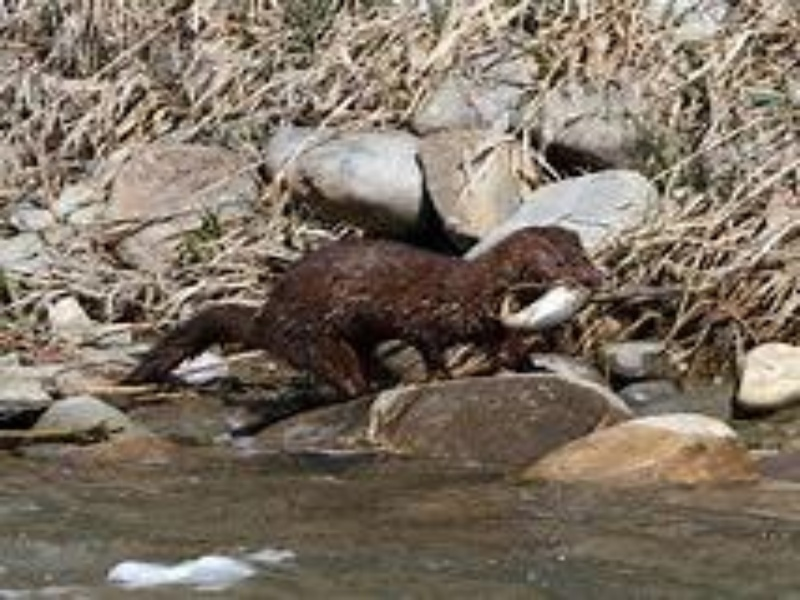minkish: (120, 225, 603, 401)
